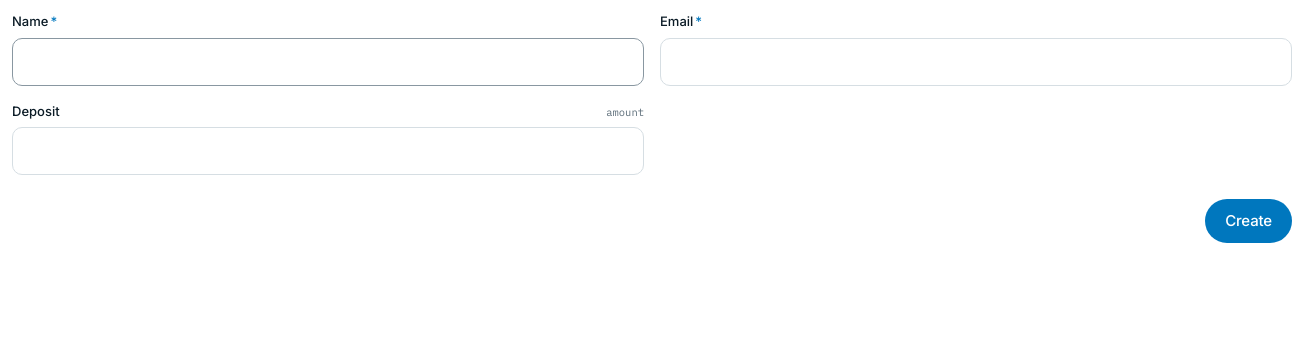
Test: SchemaForm › shows server-side rule rejections on the form
The width and height of the screenshot is (1304, 345).
Type "Lena" into the field labelled "Name*".
click(328, 62); type("Lena")  # box [12,38,644,86]
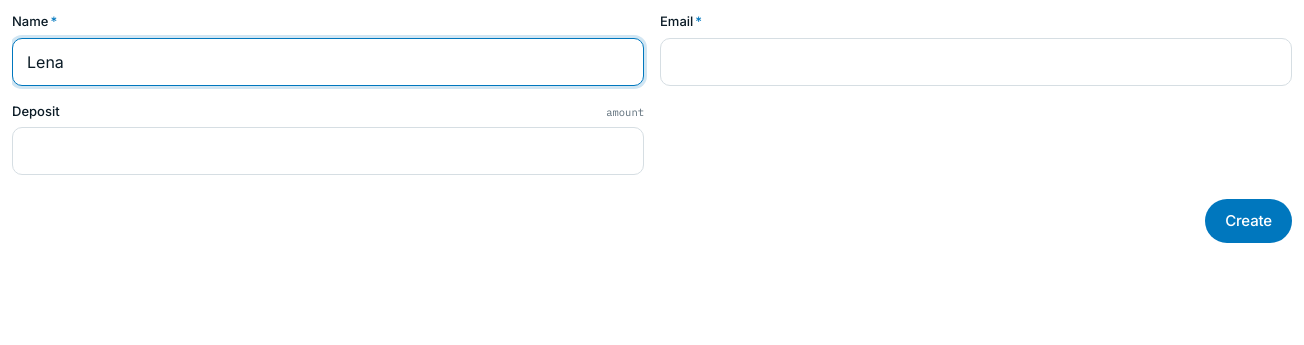
Type "lena@example.com" into the field labelled "Email*".
click(976, 62); type("lena@example.com")  # box [660,38,1292,86]
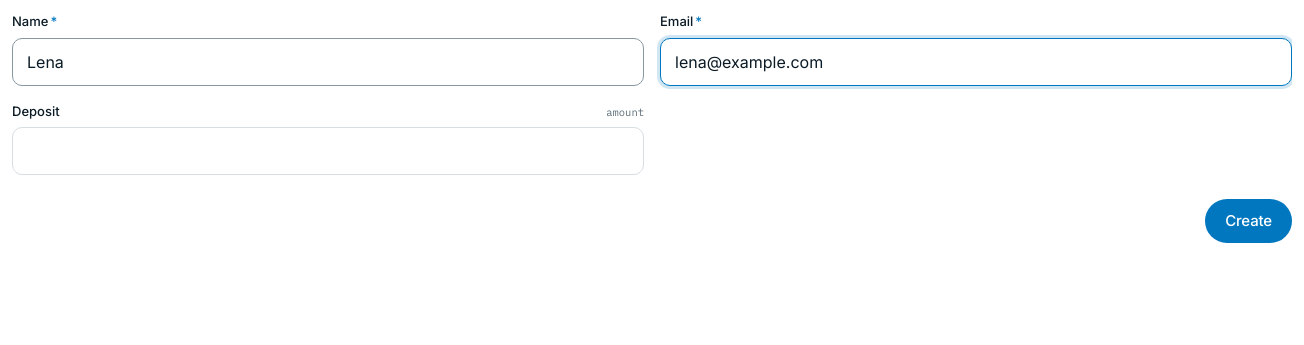
Click the button "Create".
click(1249, 221)  # box [1205,199,1292,243]
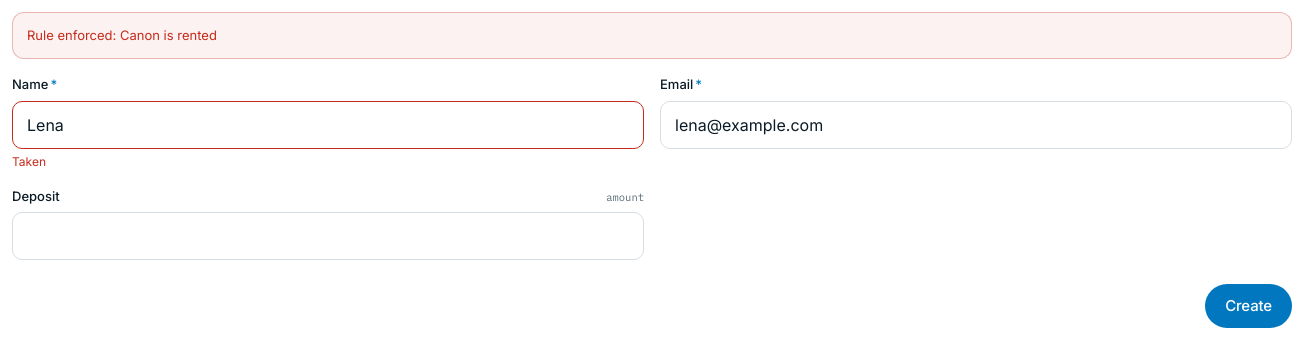
Expected: the message reads "Rule enforced: Canon is rented", [27,27,217,43]
Expected: the text "Taken" is shown, [12,154,46,169]
